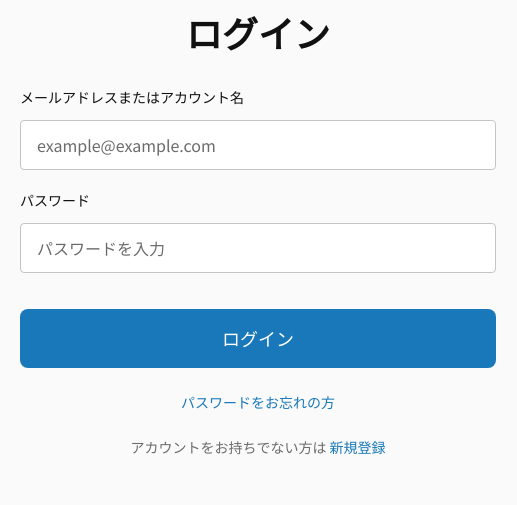
Scenario: LoginForm › パスワード未入力でバリデーションエラーが表示される
Type "test@example.com" into the field labelled "メールアドレスまたはアカウント名". click: (258,145)
box: [20,120,496,170]
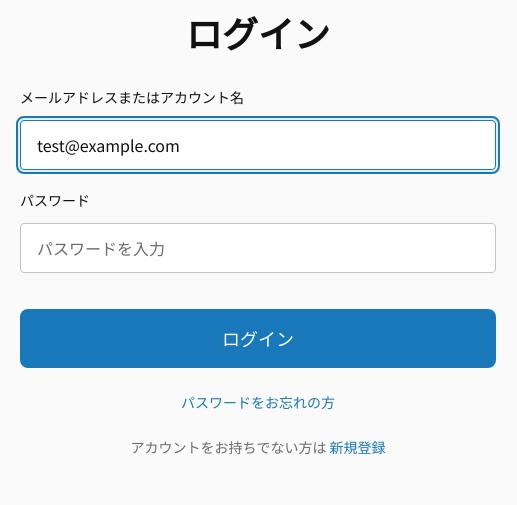
Click the button "ログイン". click: (258,338)
box: [20,309,496,368]
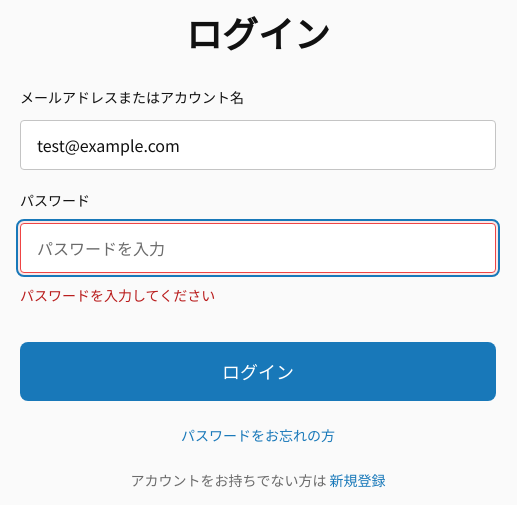
Expected: the text "パスワードを入力してください" is shown, [20,285,215,305]
